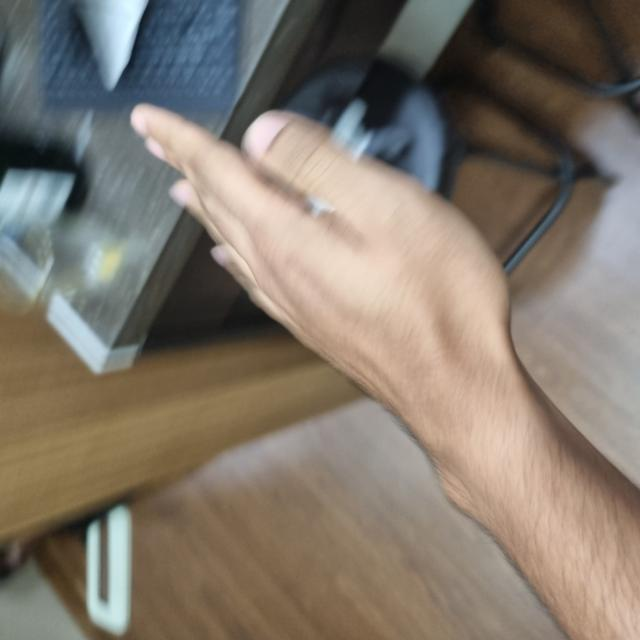Paper: (201, 131, 537, 510)
